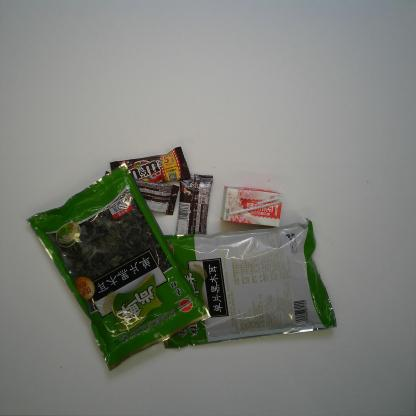Chocolate: (104, 170, 181, 216), (109, 146, 192, 183), (175, 172, 213, 235)
Dried Food: (25, 162, 212, 374), (164, 217, 338, 350)
Milk: (220, 186, 283, 227)
